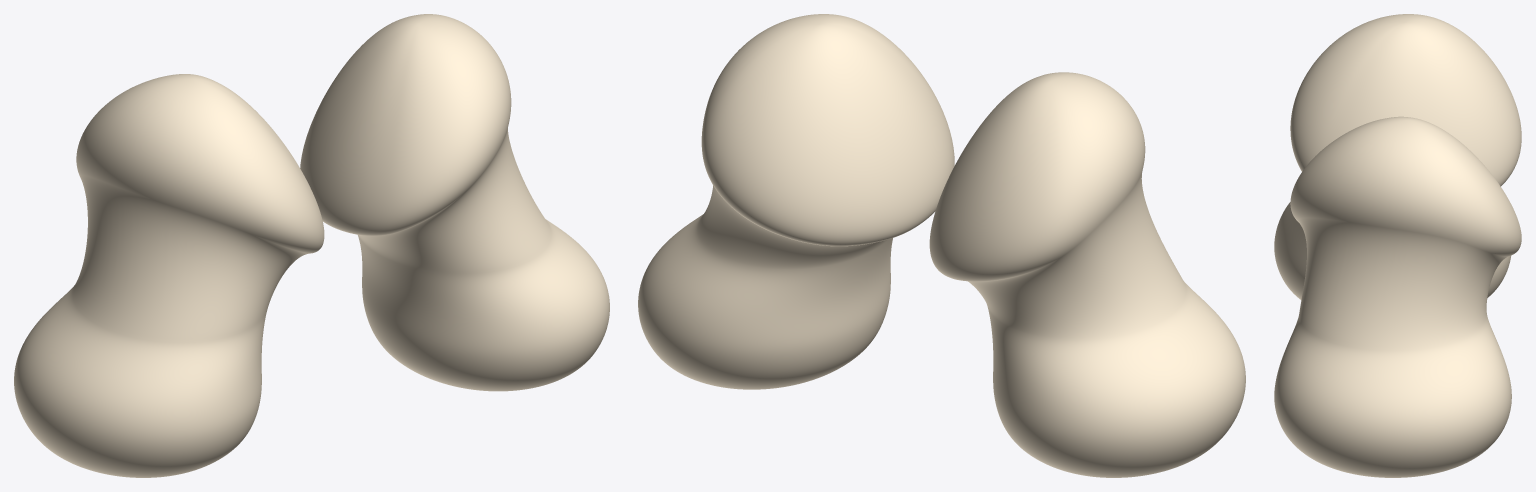
The model's file is legs.glb.
3 renders of one model, left to right at view 1: azimuth 30°, elevation 25°; view 2: azimuth 150°, elevation 25°; view 3: azimuth 270°, elevation 25°, orthographic. The views are drawn at different scales.
Visible parts, largest first — view 1: Leg_L, Leg_R; view 2: Leg_L, Leg_R; view 3: Leg_R, Leg_L.
Part boxes in pixels (bbox=[...]): Leg_L: bbox=[14, 74, 324, 477]; Leg_R: bbox=[300, 14, 609, 391]; Leg_L: bbox=[929, 72, 1245, 477]; Leg_R: bbox=[638, 14, 954, 389]; Leg_R: bbox=[1274, 116, 1521, 477]; Leg_L: bbox=[1274, 14, 1521, 299].
Bounding box in the file's own units: 54.7 × 33.02 × 23.95.
